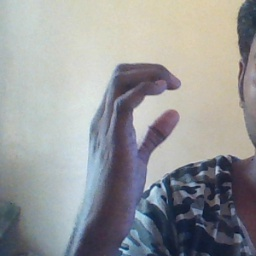C: (114, 49, 197, 179)
